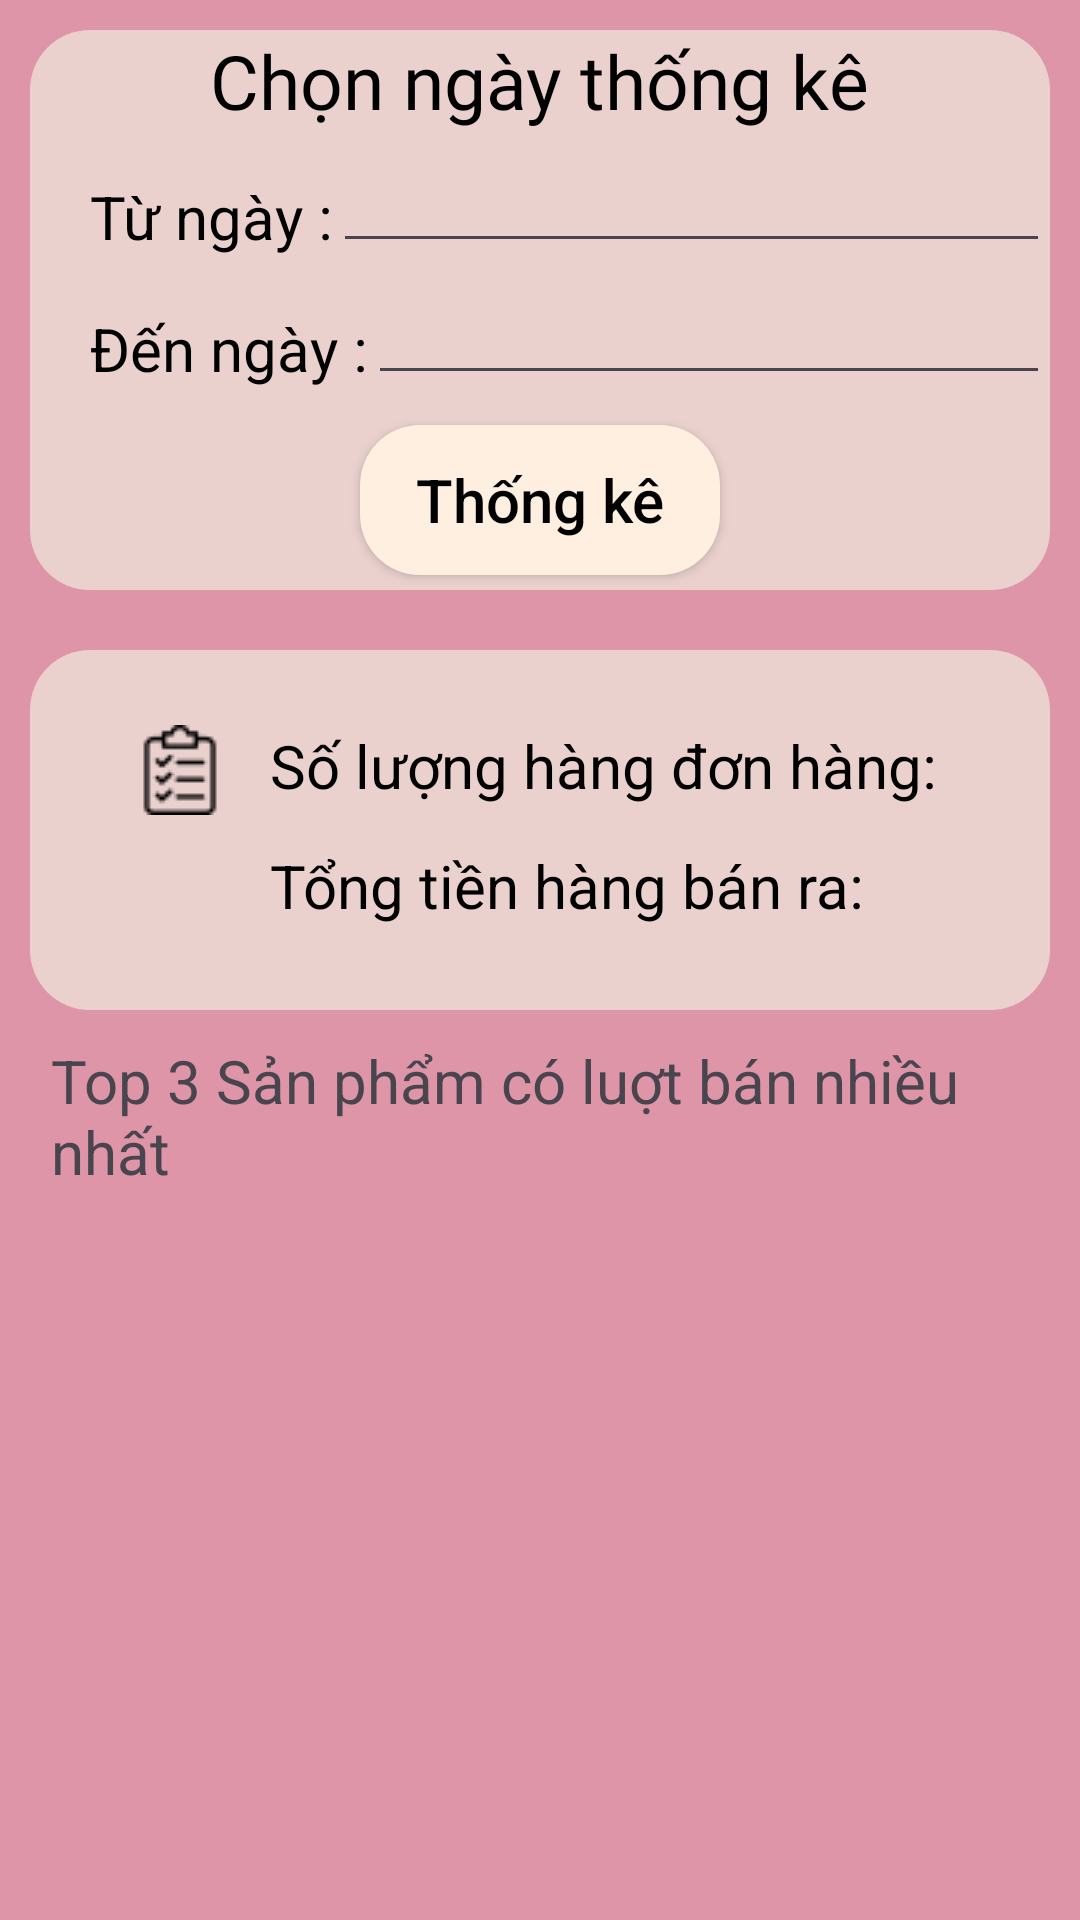

Icons on this 1080x1920 Android screen, each with the point to tap as (x=x, y=y):
thongkedonhang doan: (x=180, y=770)
